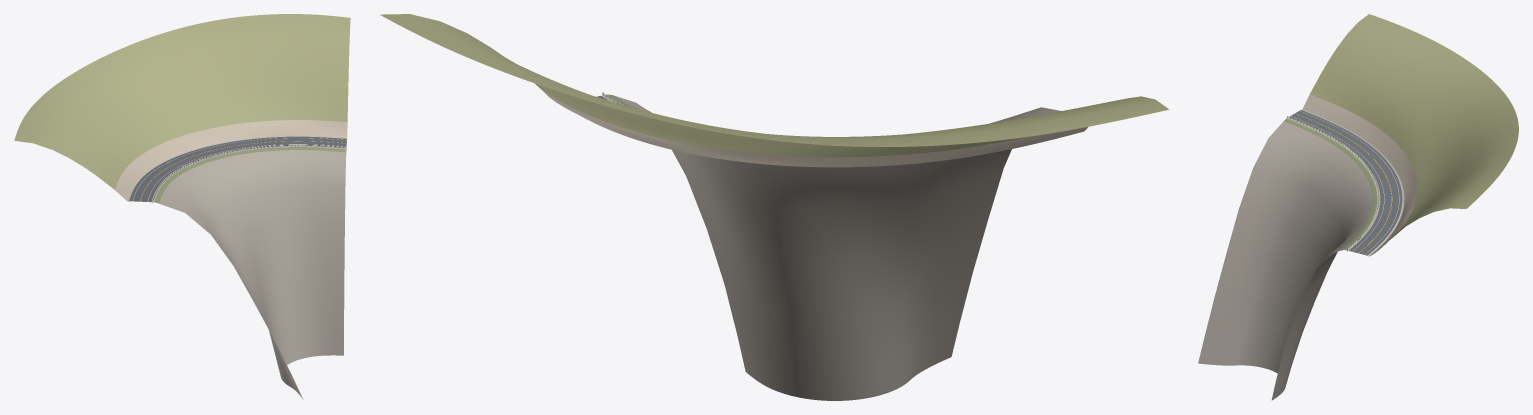
3 renders of one model, left to right at view 1: azimuth 30°, elevation 25°; view 2: azimuth 150°, elevation 25°; view 3: azimuth 270°, elevation 25°, orthographic. The views are drawn at different scales.
Parts seen in each view (by area): view 1: Hillside, Cliff, RoadCut, Asphalt, Verge, Gravel; view 2: Cliff, Hillside, RoadCut; view 3: Cliff, Hillside, Asphalt, RoadCut, Gravel, Verge, EdgeLines.
Boxes of the visible parts, x1,y1,x2,y2 form: Hillside: (14,14,350,189); Cliff: (159,150,346,399); RoadCut: (115,120,347,200); Asphalt: (130,136,346,202); Verge: (154,147,346,203); Gravel: (127,136,347,202); Cliff: (614,95,1060,400); Hillside: (380,14,1168,157); RoadCut: (542,90,1088,167); Cliff: (1198,121,1372,400); Hillside: (1310,14,1518,247); Asphalt: (1289,110,1402,255); RoadCut: (1302,94,1417,255); Gravel: (1287,109,1404,256); Verge: (1284,118,1377,250); EdgeLines: (1291,111,1399,254).
Size of the model in its own units: 211 by 130 by 151.
